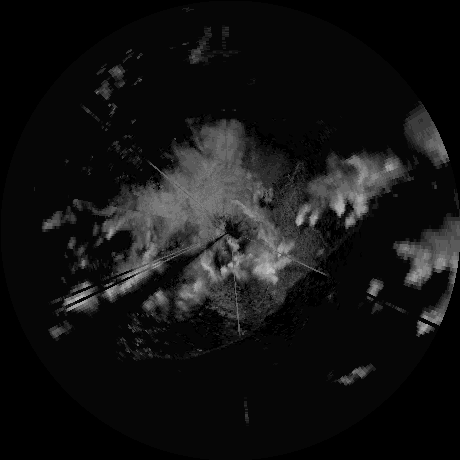frontgust: (134, 316, 249, 360)
